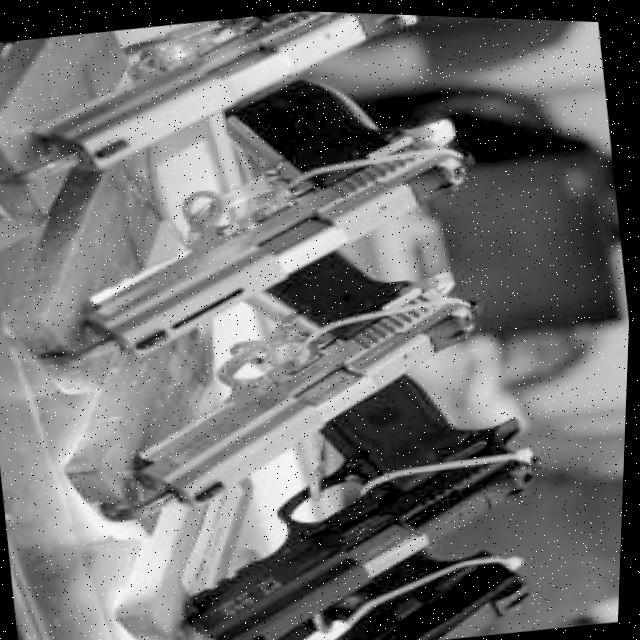pistol: (50, 48, 493, 369), (152, 343, 572, 640), (108, 222, 504, 520), (35, 1, 438, 183), (251, 523, 547, 640)
